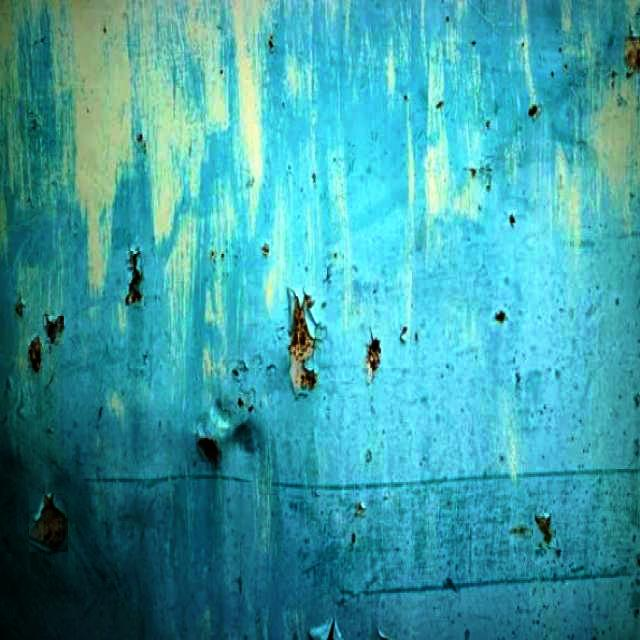Corrosion: (290, 290, 324, 396), (29, 496, 66, 550), (524, 24, 542, 119), (125, 250, 143, 304), (366, 333, 382, 382), (43, 314, 64, 344), (198, 439, 219, 468), (626, 32, 640, 74), (536, 515, 554, 546), (27, 337, 42, 372), (563, 7, 573, 31), (496, 310, 509, 324), (509, 213, 519, 226), (522, 8, 528, 22), (15, 304, 21, 316), (636, 7, 640, 24)
